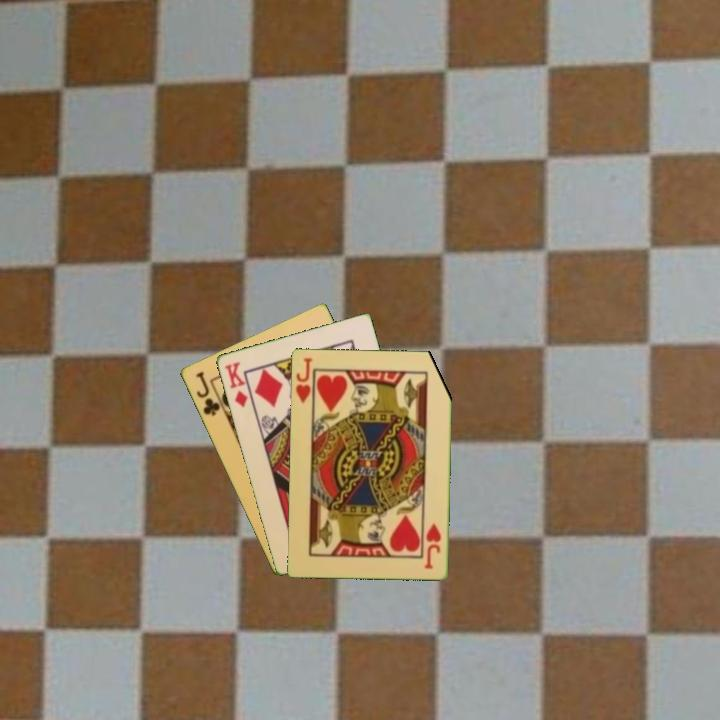Jc: (192, 368, 223, 419)
Jh: (292, 354, 315, 406), (422, 520, 443, 571)
Kd: (220, 358, 251, 410)
